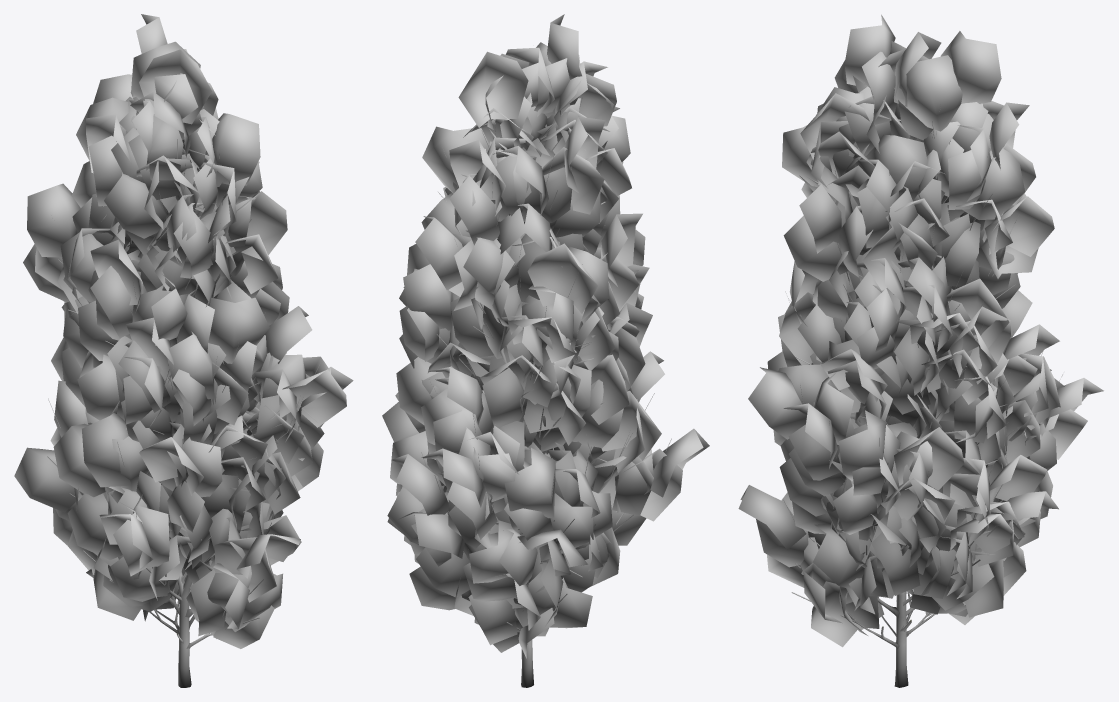
Rendered from BeechEuropean_E.fbx.
3 renders of one model, left to right at view 1: azimuth 30°, elevation 25°; view 2: azimuth 150°, elevation 25°; view 3: azimuth 270°, elevation 25°, orthographic.
Visible parts, largest first — view 1: BeechEuropean_E_LOD0; view 2: BeechEuropean_E_LOD0; view 3: BeechEuropean_E_LOD0.
Boxes of the visible parts, bbox=[...] form: BeechEuropean_E_LOD0: bbox=[14, 14, 353, 687]; BeechEuropean_E_LOD0: bbox=[382, 14, 709, 687]; BeechEuropean_E_LOD0: bbox=[738, 14, 1103, 687].
Size of the model in its own units: 1207 by 2936 by 1492.
